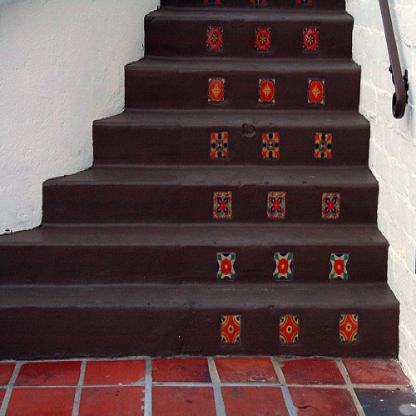stairs: (106, 100, 362, 388)
